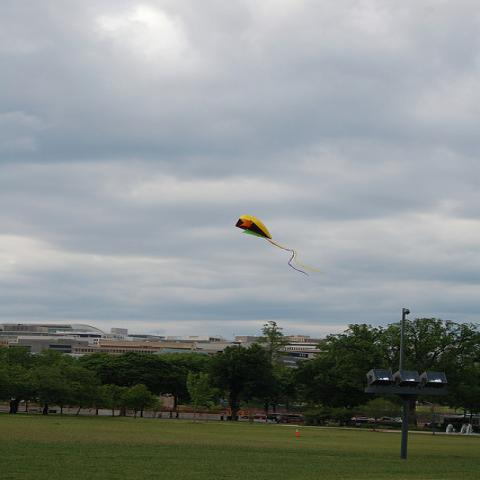car: (280, 414, 307, 423), (377, 416, 403, 425), (241, 413, 268, 419), (356, 417, 375, 423), (267, 414, 283, 421), (356, 420, 369, 426)
